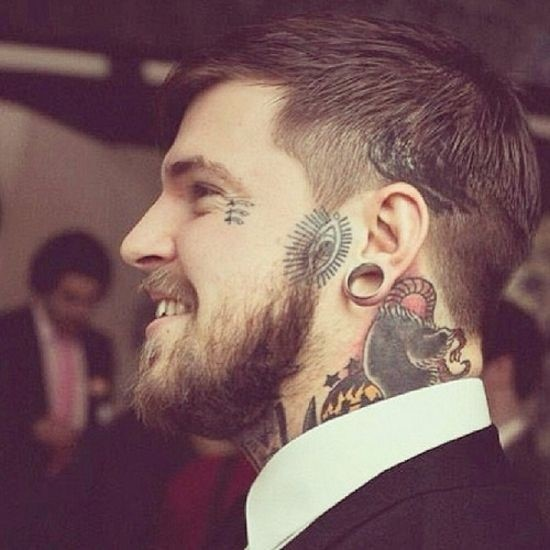face_no_mask: (118, 23, 549, 441)
